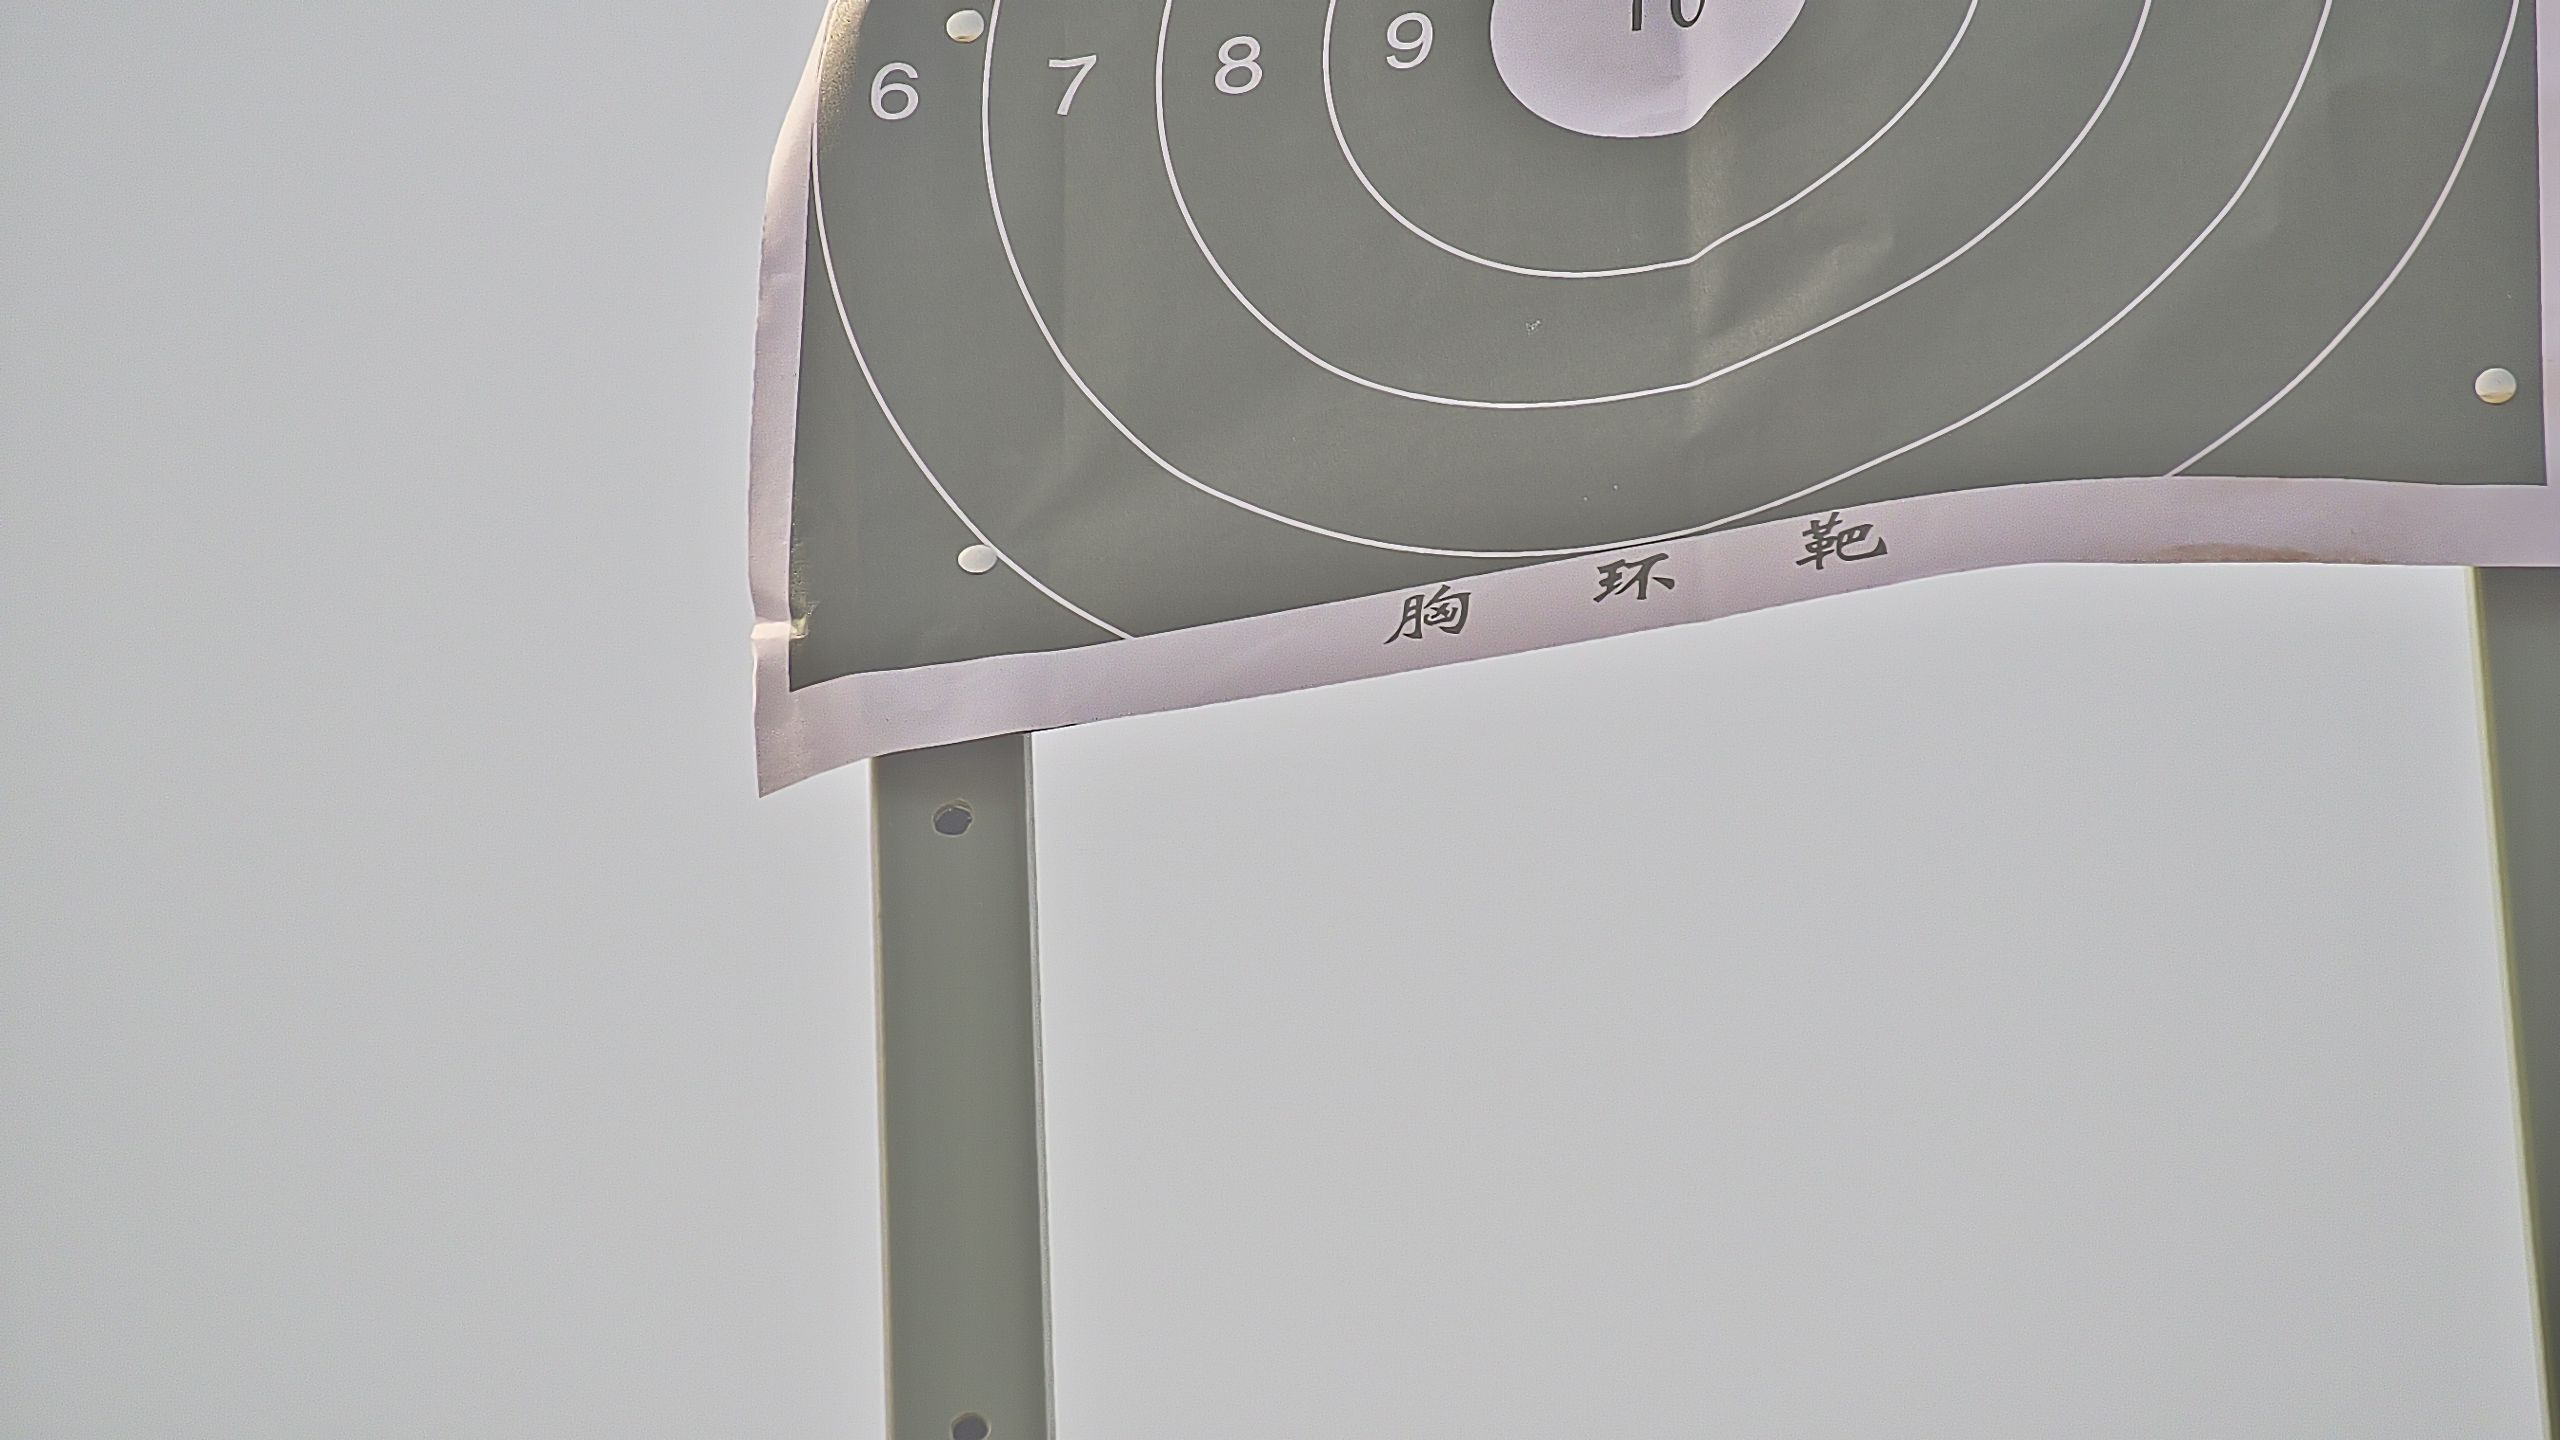target: (800, 2, 2548, 689)
ten: (1475, 4, 1800, 137)
